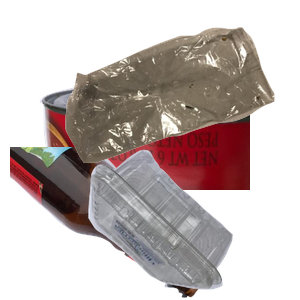glass: (10, 147, 207, 300)
metal: (37, 81, 277, 261)
plastic: (86, 147, 300, 300)
trash: (63, 24, 300, 179)
